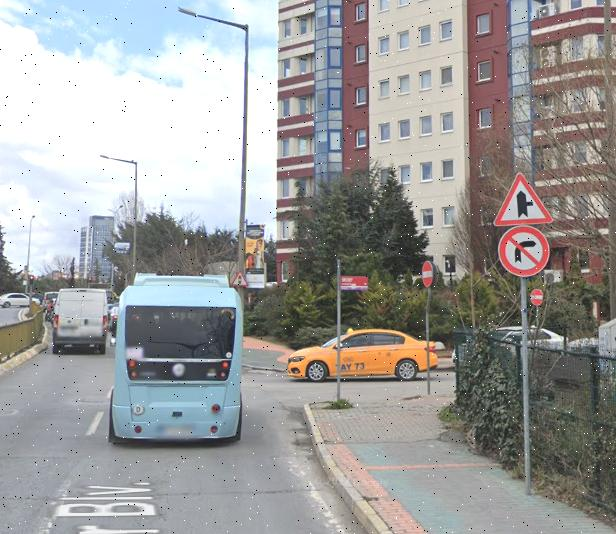rightturnsareforbidden: (497, 224, 550, 277)
